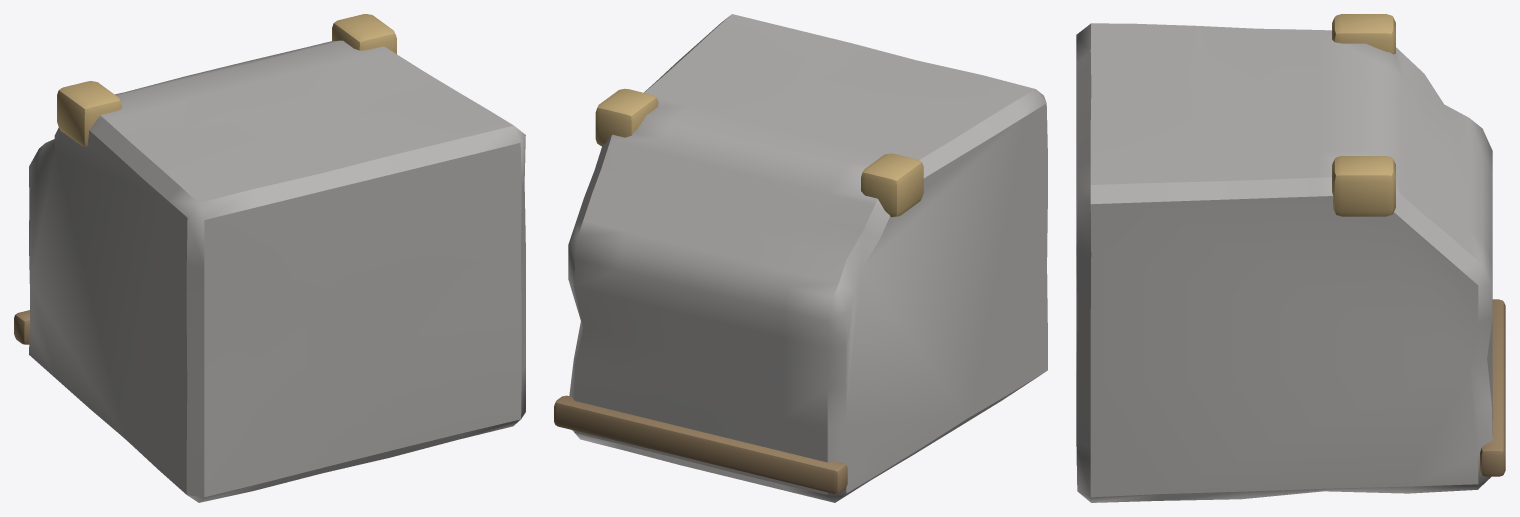
Rendered from SM_Area2_RimTooth_Small_C.glb.
3 renders of one model, left to right at view 1: azimuth 30°, elevation 25°; view 2: azimuth 150°, elevation 25°; view 3: azimuth 270°, elevation 25°, orthographic. The views are drawn at different scales.
Parts seen in each view (by area): view 1: SM_Area2_RimTooth_Small_C; view 2: SM_Area2_RimTooth_Small_C; view 3: SM_Area2_RimTooth_Small_C.
Boxes of the visible parts, <box> form: SM_Area2_RimTooth_Small_C: <box>14,14,525,502</box>; SM_Area2_RimTooth_Small_C: <box>554,14,1047,502</box>; SM_Area2_RimTooth_Small_C: <box>1076,14,1505,502</box>.
Bounding box in the file's own units: 1.29 × 1.14 × 1.34.
